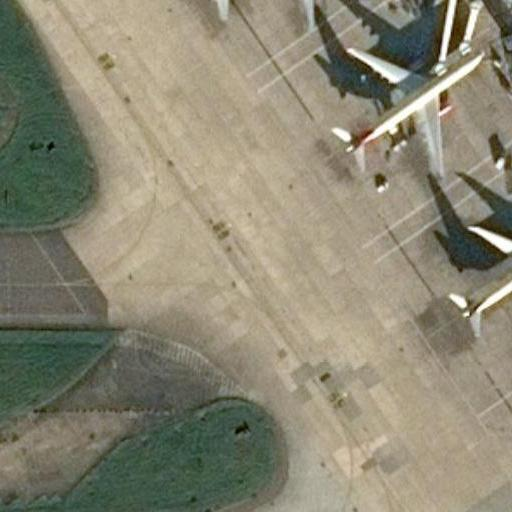Aircraft: (327, 39, 489, 177), (442, 212, 512, 342), (184, 0, 373, 29)
